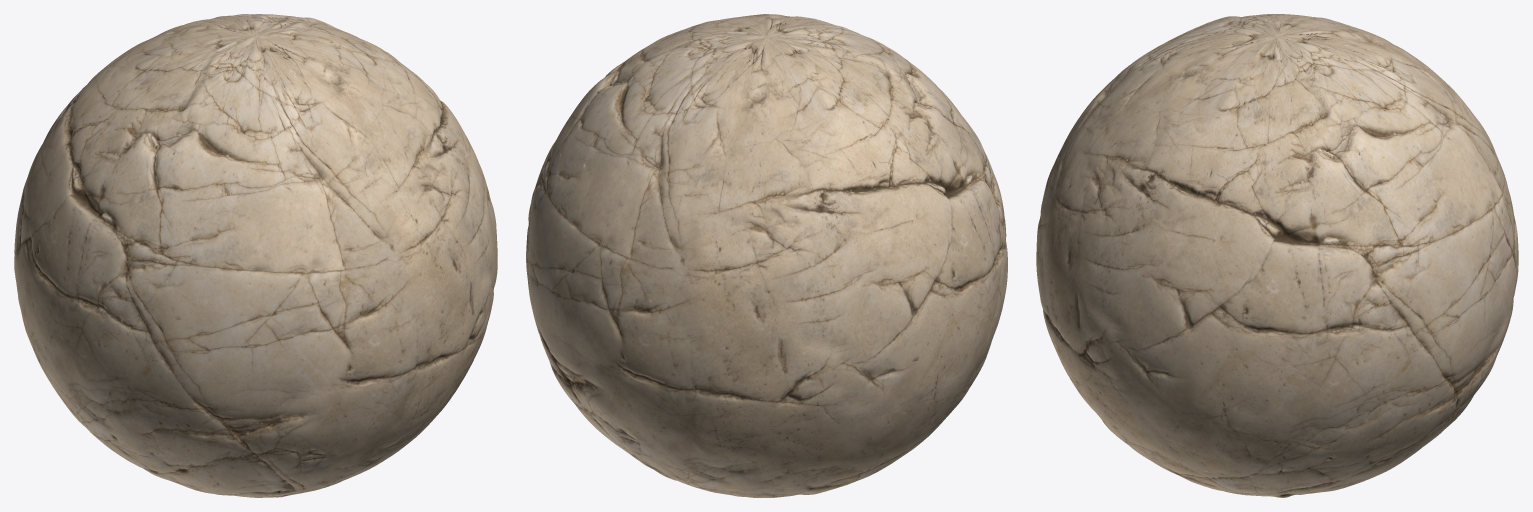
The model's file is marble_rock_02_1k.gltf.
The picture shows the model from 3 angles, left to right: view 1: azimuth 30°, elevation 25°; view 2: azimuth 150°, elevation 25°; view 3: azimuth 270°, elevation 25°; orthographic projection.
Visible parts, largest first — view 1: sphere_gltf; view 2: sphere_gltf; view 3: sphere_gltf.
Boxes of the visible parts, box(x1,y1,x2,y2) form: sphere_gltf: box(14, 14, 497, 497); sphere_gltf: box(526, 14, 1007, 497); sphere_gltf: box(1036, 14, 1518, 497).
Bounding box in the file's own units: 2 × 2.01 × 2.
Materials: 1 (1 with a texture image).
